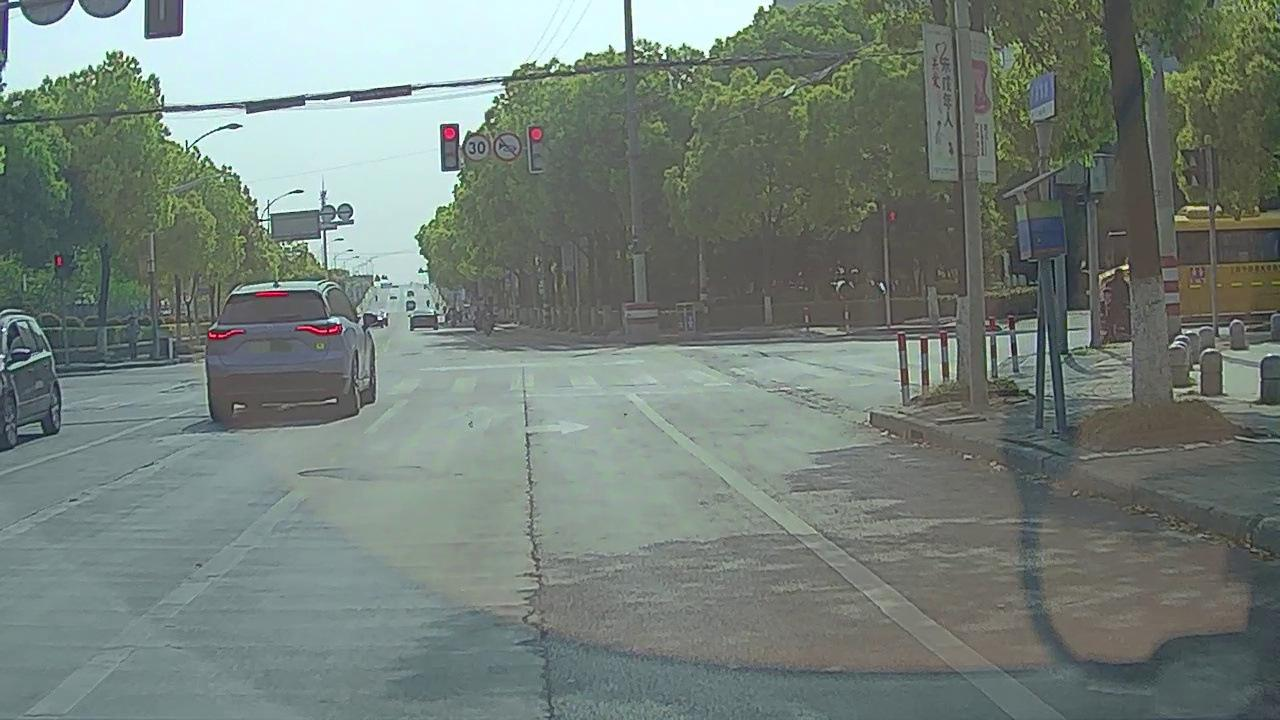traffic_light: (440, 123, 459, 169), (528, 126, 547, 171)
